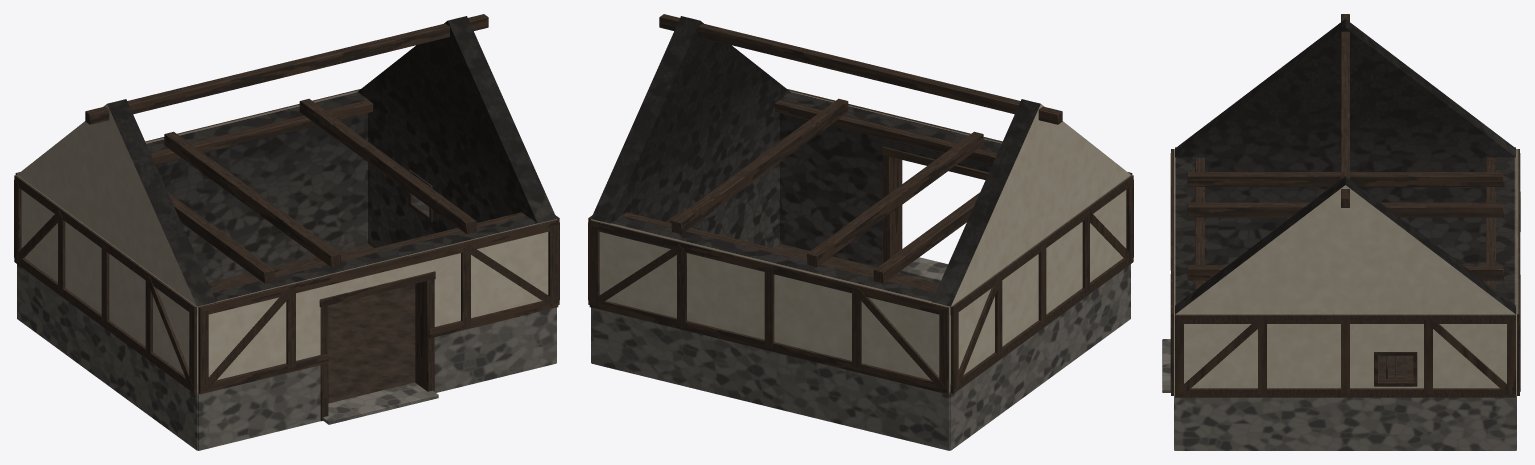
The model's file is SM_Forge_Building.glb.
3 renders of one model, left to right at view 1: azimuth 30°, elevation 25°; view 2: azimuth 150°, elevation 25°; view 3: azimuth 270°, elevation 25°, orthographic. The views are drawn at different scales.
Parts seen in each view (by area): view 1: SM_Forge_Building; view 2: SM_Forge_Building; view 3: SM_Forge_Building.
Boxes of the visible parts, x1,y1,x2,y2 form: SM_Forge_Building: (14, 14, 559, 450); SM_Forge_Building: (588, 14, 1133, 450); SM_Forge_Building: (1162, 14, 1520, 450).
Size of the model in its own units: 8.7 by 5.95 by 7.14.
Materials: 1 (1 with a texture image).
